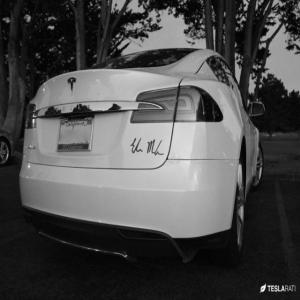Plate: (57, 116, 93, 151)
